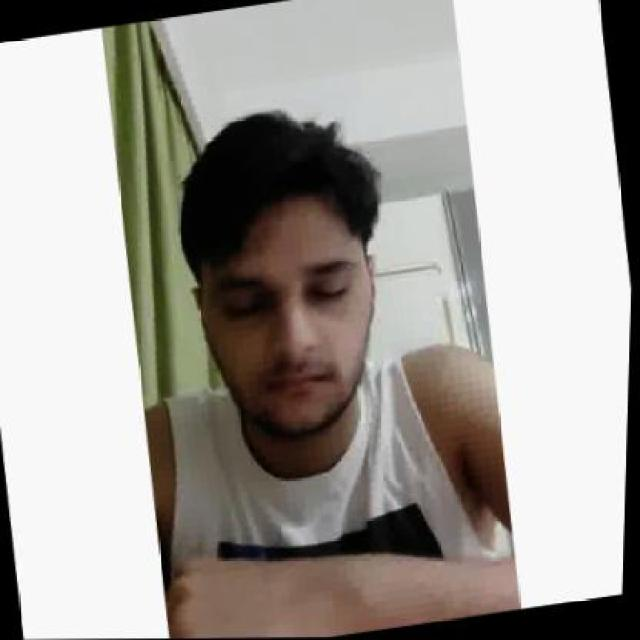inattentif: (165, 96, 404, 453)
